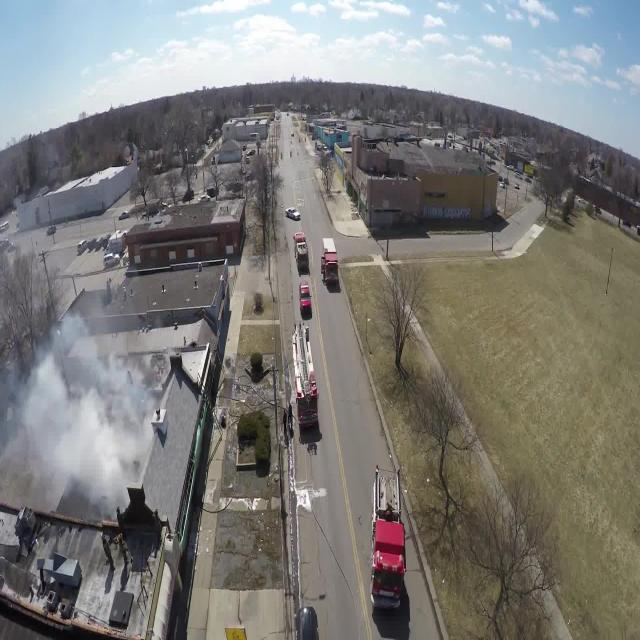Smoke: (0, 260, 155, 558)
